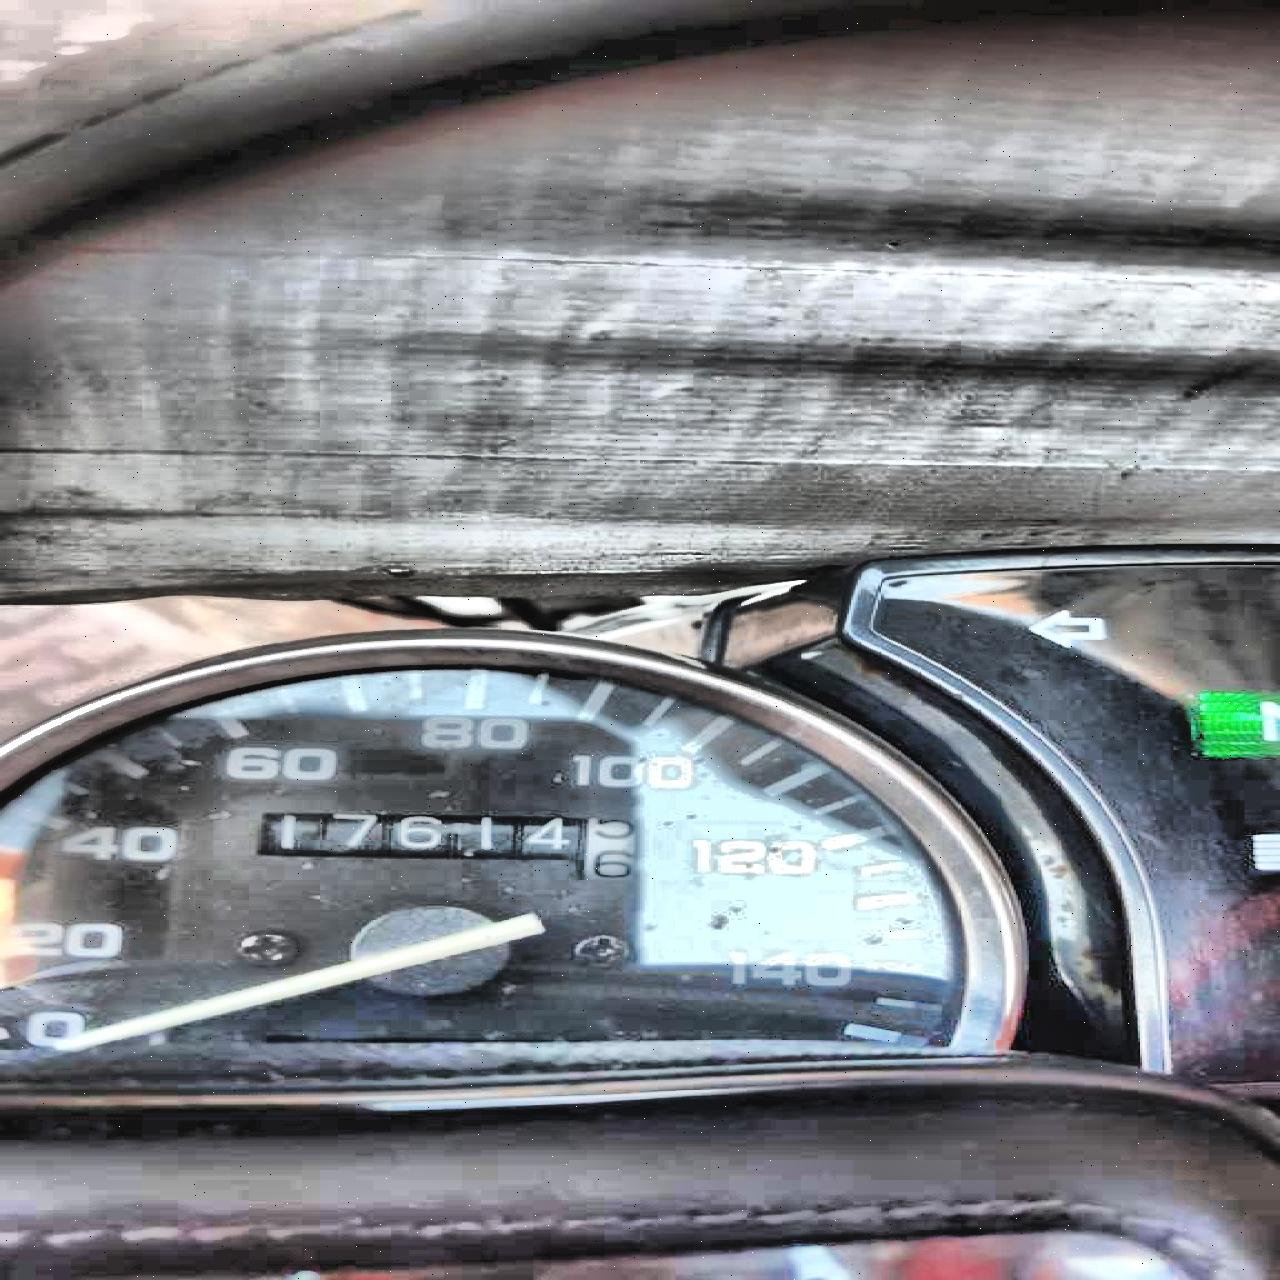1: (464, 811, 499, 850), (268, 812, 302, 850)
4: (520, 813, 571, 850)
5: (591, 813, 635, 840)
6: (392, 813, 444, 849), (586, 847, 635, 878)
7: (327, 810, 377, 846)
odometer: (243, 803, 645, 886)
